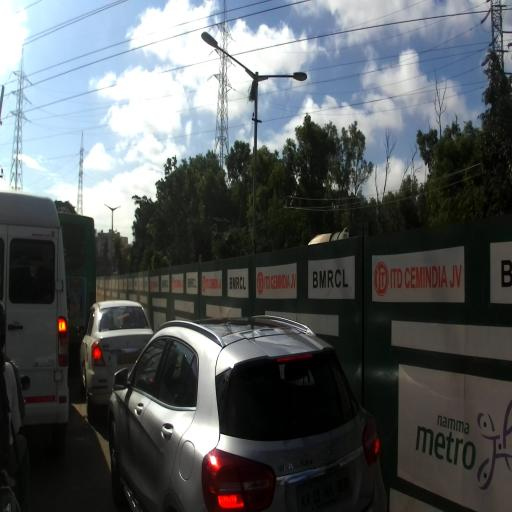street_light_0: (200, 31, 258, 88), (252, 71, 308, 90), (104, 204, 113, 212), (112, 206, 121, 213)
